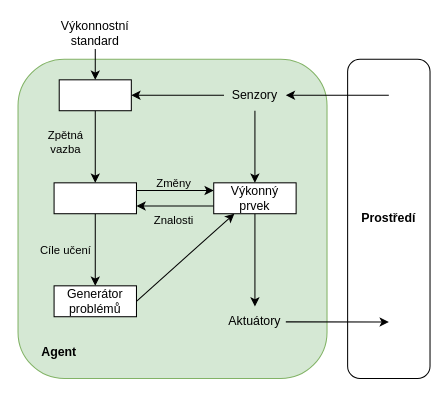
This 448x397 diagram has some shape labels left out. The centre of each missing label's shape, as x and y in pixels:
Kritik: point (94, 95)
Učící prvek: point (94, 198)
